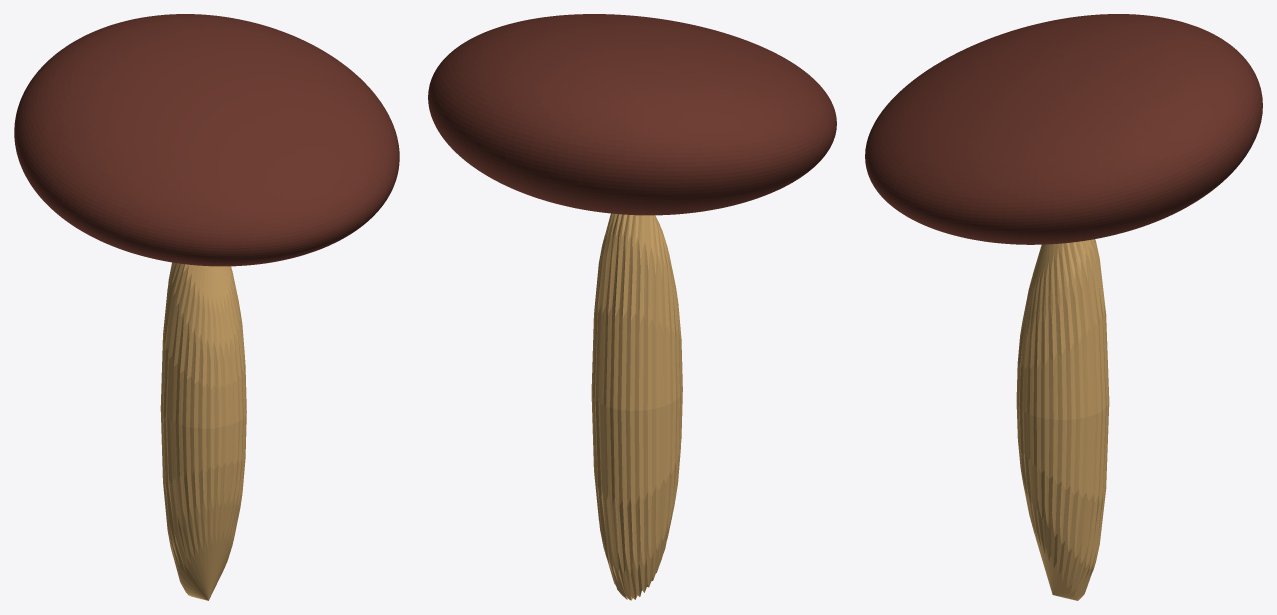
The picture shows the model from 3 angles, left to right: view 1: azimuth 30°, elevation 25°; view 2: azimuth 150°, elevation 25°; view 3: azimuth 270°, elevation 25°; orthographic projection. The views are drawn at different scales.
Visible parts, largest first — view 1: 柱体.001, 柱体; view 2: 柱体.001, 柱体; view 3: 柱体.001, 柱体.
Boxes of the visible parts, bbox=[...] form: 柱体.001: bbox=[14, 14, 399, 266]; 柱体: bbox=[160, 262, 246, 600]; 柱体.001: bbox=[428, 14, 836, 215]; 柱体: bbox=[591, 213, 682, 600]; 柱体.001: bbox=[865, 14, 1262, 244]; 柱体: bbox=[1016, 239, 1109, 600].
Size of the model in its own units: 325 by 498 by 325.
